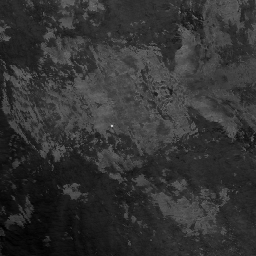Target: (109, 123, 114, 128)
